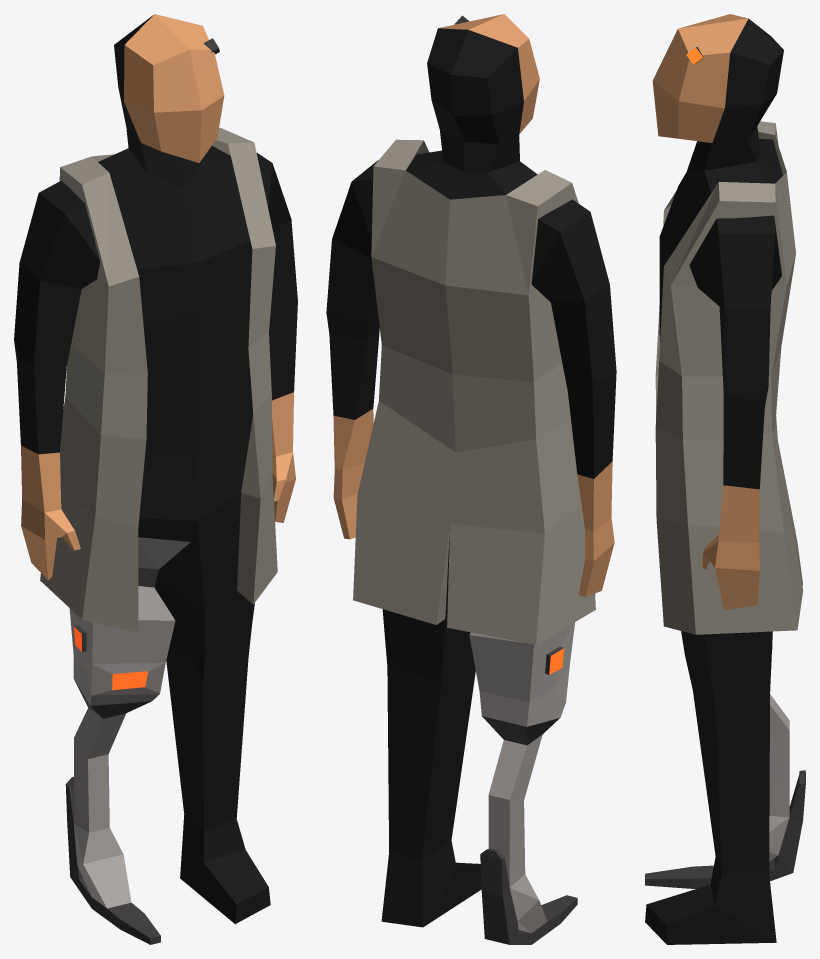
The model's file is people_man-scifi-prosthetic-leg.fbx.
3 views of the same model, side by side, from view 1: azimuth 30°, elevation 25°; view 2: azimuth 150°, elevation 25°; view 3: azimuth 270°, elevation 25° (orthographic). The views are drawn at different scales.
Visible parts, largest first — view 1: people_man_scifi_prosthetic_leg; view 2: people_man_scifi_prosthetic_leg; view 3: people_man_scifi_prosthetic_leg.
Part boxes in pixels (x1,y1,x2,y2): people_man_scifi_prosthetic_leg: (14,14,297,944); people_man_scifi_prosthetic_leg: (326,14,616,944); people_man_scifi_prosthetic_leg: (645,14,805,944).
Size of the model in its own units: 63.14 by 200 by 32.81.
